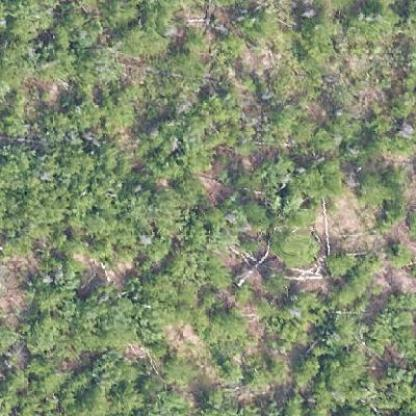tree-top: (244, 154, 344, 227), (369, 289, 415, 358), (180, 204, 236, 254), (263, 224, 319, 267), (20, 310, 68, 356), (99, 84, 141, 133), (314, 73, 353, 112), (0, 14, 42, 46), (319, 246, 357, 281), (290, 354, 322, 386)
